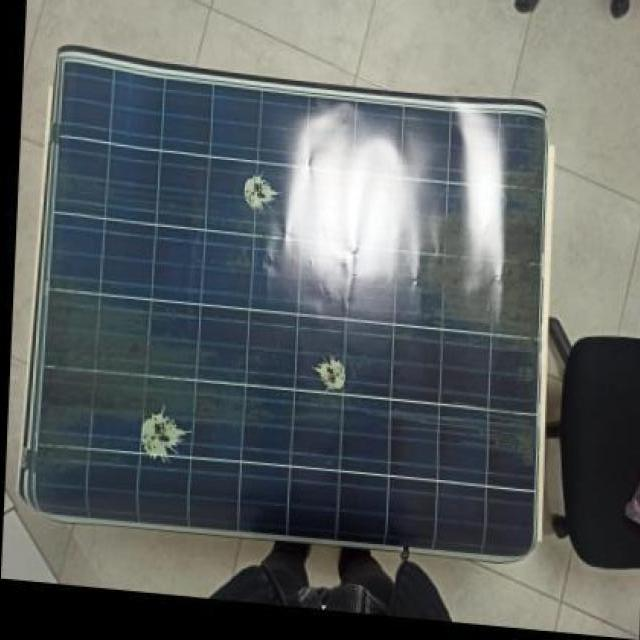soiled: (22, 41, 548, 561)
